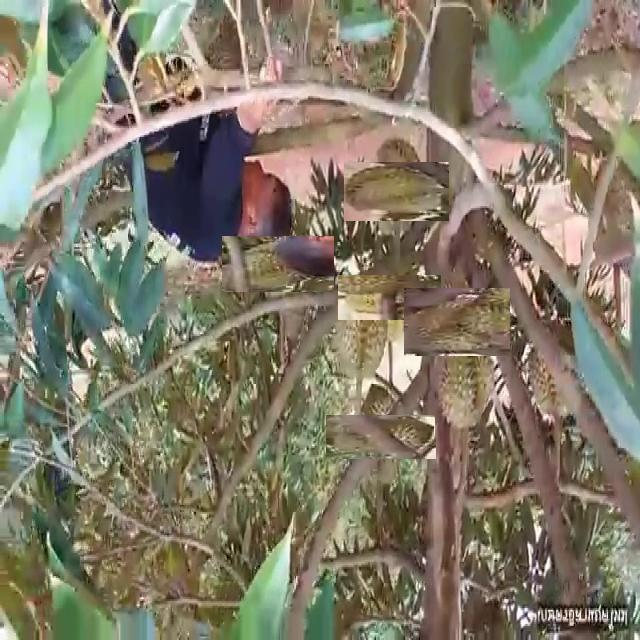durian: (526, 310, 592, 434), (413, 278, 501, 365), (435, 324, 500, 438), (236, 222, 321, 306), (355, 150, 438, 232), (332, 270, 389, 389), (343, 399, 420, 476), (353, 260, 427, 335)
